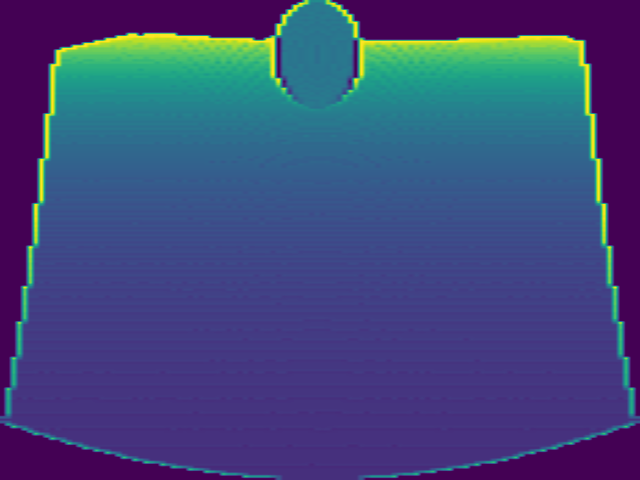sphere: (268, 2, 365, 111)
